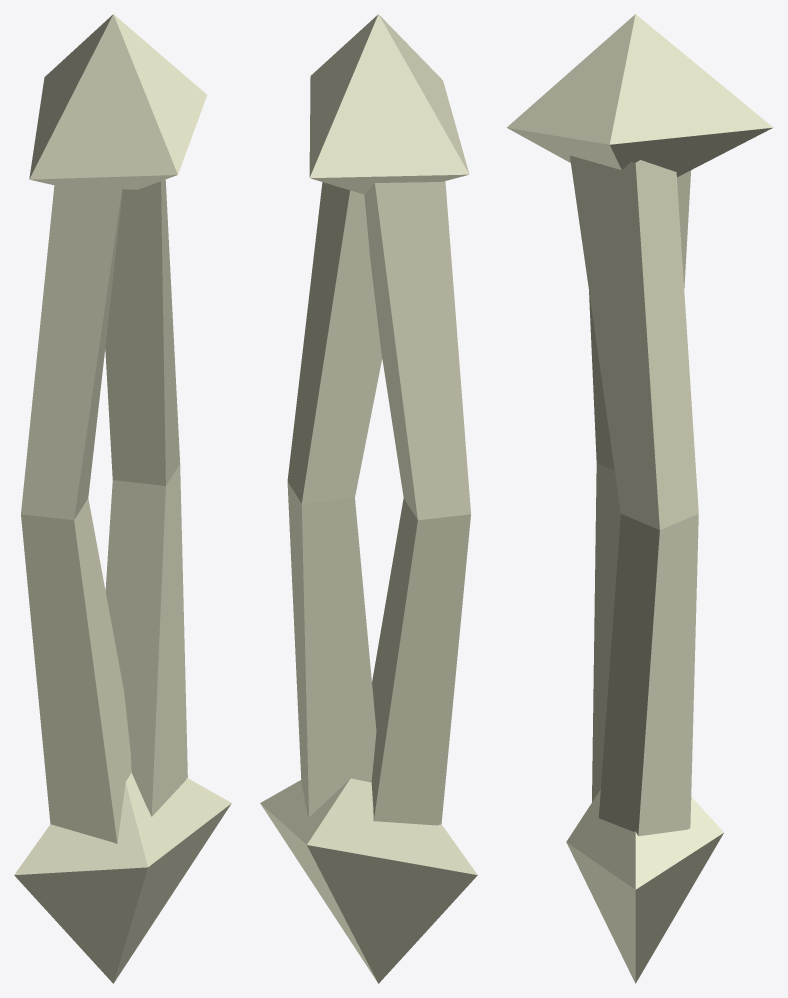
File: bone2.fbx
The picture shows the model from 3 angles, left to right: view 1: azimuth 30°, elevation 25°; view 2: azimuth 150°, elevation 25°; view 3: azimuth 270°, elevation 25°; orthographic projection.
Parts seen in each view (by area): view 1: bone2; view 2: bone2; view 3: bone2.
Boxes of the visible parts, x1,y1,x2,y2 form: bone2: [14, 14, 231, 983]; bone2: [260, 14, 477, 983]; bone2: [506, 14, 773, 983].
Size of the model in its own units: 15.66 by 66.65 by 16.63.
